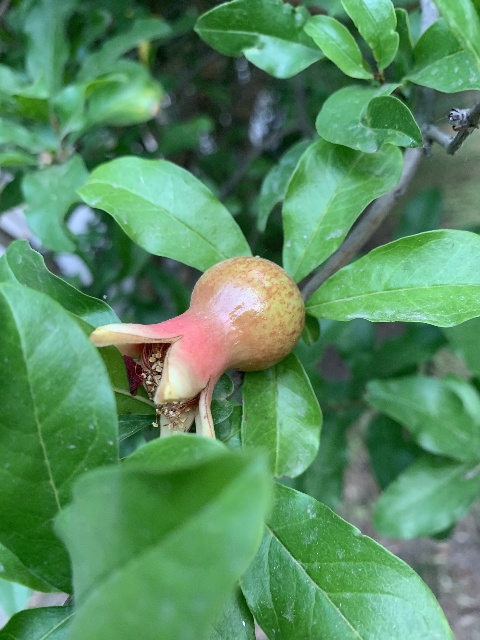early-fruit: (90, 256, 304, 440)
